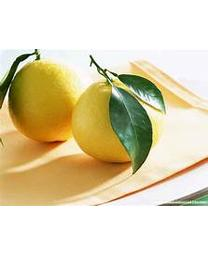lemon: (72, 76, 164, 163), (8, 60, 83, 143)
